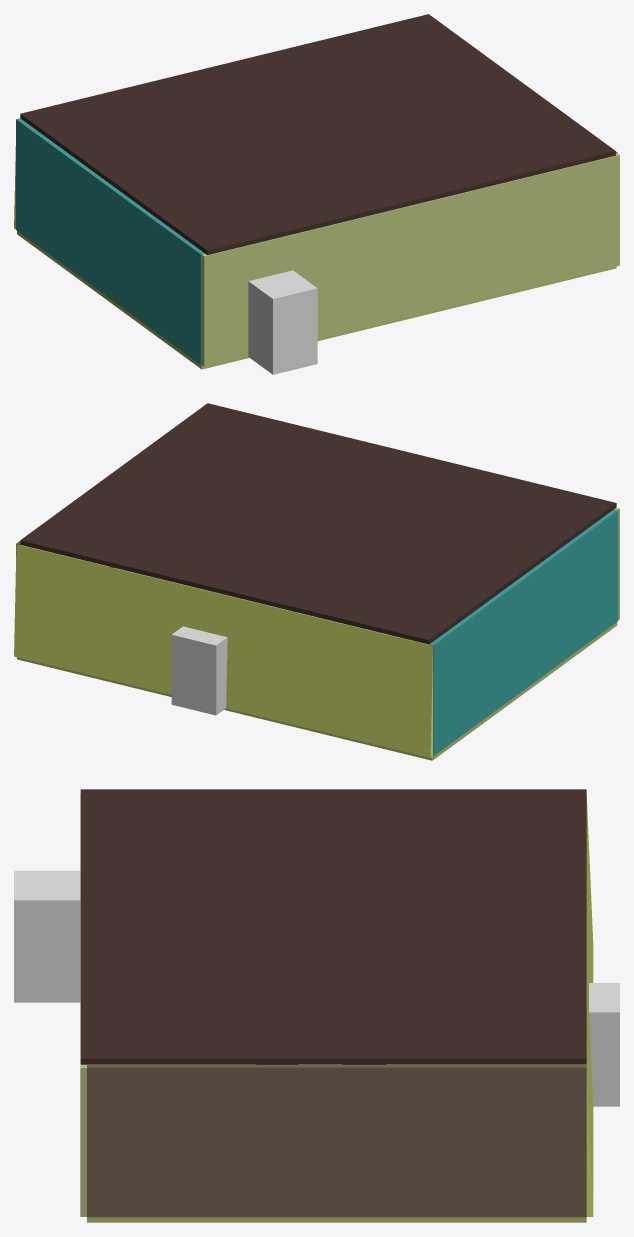
Rendered from Escape Room With Fake door.fbx.
3 views of the same model, one above another, from view 1: azimuth 30°, elevation 25°; view 2: azimuth 150°, elevation 25°; view 3: azimuth 270°, elevation 25° (orthographic). The views are drawn at different scales.
Parts seen in each view (by area): view 1: Cube.006, Cube.003, Cube.007, Fake Door, Cube.005; view 2: Cube.006, Cube.004, Cube.007, Cube.010, Cube.005; view 3: Cube.006, Cube.008, Fake Door, Cube.010, Cube.005, Cube.004, Cube.003.
Part boxes in pixels (x1=…): Cube.006: x1=20, y1=14, x2=615, y2=254; Cube.003: x1=201, y1=153, x2=619, y2=366; Cube.007: x1=16, y1=118, x2=204, y2=364; Fake Door: x1=248, y1=270, x2=317, y2=374; Cube.005: x1=17, y1=231, x2=616, y2=369; Cube.006: x1=20, y1=403, x2=616, y2=644; Cube.004: x1=14, y1=544, x2=432, y2=757; Cube.007: x1=429, y1=509, x2=618, y2=756; Cube.010: x1=171, y1=626, x2=227, y2=715; Cube.005: x1=17, y1=622, x2=617, y2=760; Cube.006: x1=80, y1=789, x2=586, y2=1064; Cube.008: x1=87, y1=1065, x2=586, y2=1217; Fake Door: x1=14, y1=870, x2=80, y2=1002; Cube.010: x1=589, y1=983, x2=619, y2=1106; Cube.005: x1=87, y1=1217, x2=586, y2=1222; Cube.004: x1=386, y1=797, x2=593, y2=1216; Cube.003: x1=80, y1=794, x2=255, y2=1216.
Bounding box in the file's own units: 1869 × 513 × 1740.
